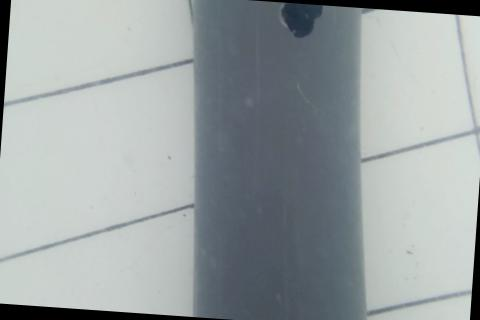kebocoran: (277, 2, 324, 43)
